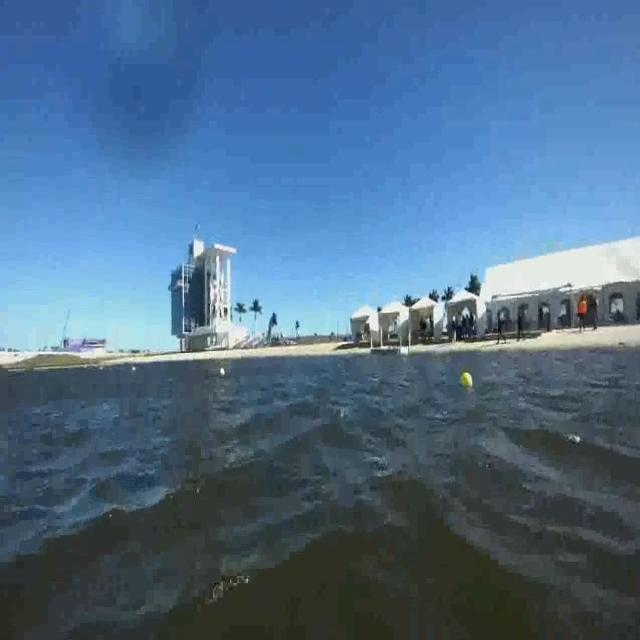yellow-buoy: (461, 371, 472, 389)
